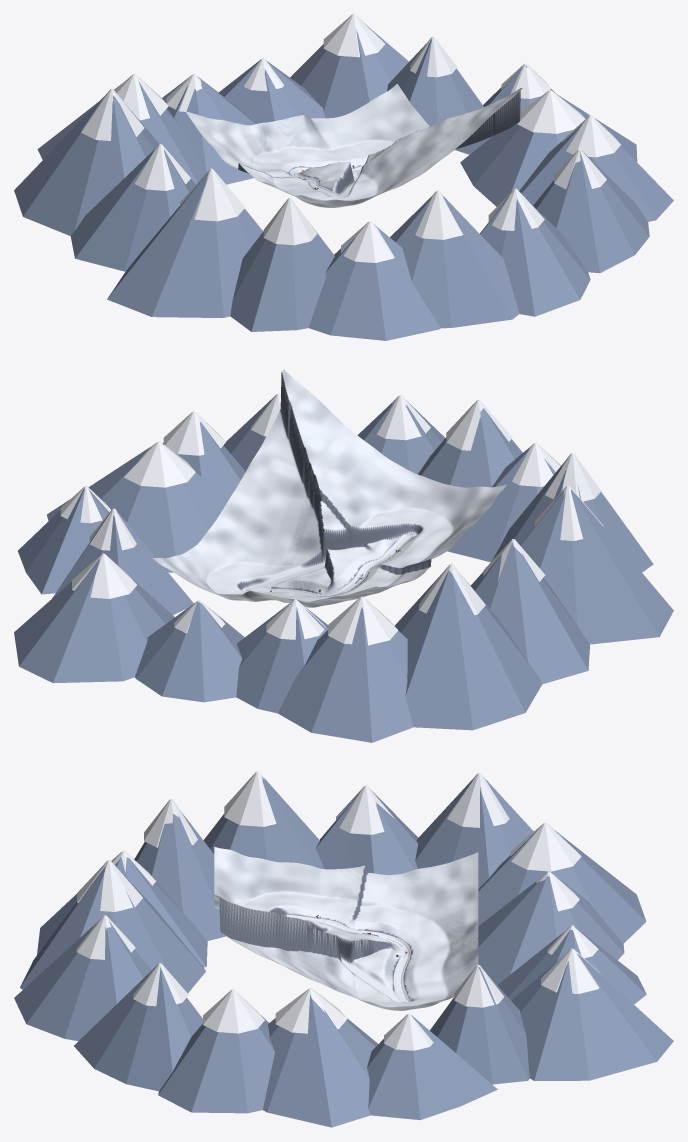
File: vale_pinheiros.glb
3 views of the same model, one above another, from view 1: azimuth 30°, elevation 25°; view 2: azimuth 150°, elevation 25°; view 3: azimuth 270°, elevation 25° (orthographic). The views are drawn at different scales.
Visible parts, largest first — view 1: terrain, mtn7, mtn4, mtn9, mtn5, mtn6, mtn2, mtn8, mtn3, mtn13, mtn0, mtn1 (+21 smaller); view 2: terrain, mtn9, mtn7, mtn13, mtn10, mtn8, mtn12, mtn0, mtn11, mtn15, mtn4, mtn14 (+21 smaller); view 3: terrain, mtn13, mtn0, mtn2, mtn3, mtn1, mtn15, mtn11, mtn4, mtn14, mtn10, mtn6 (+21 smaller).
Part boxes in pixels (x1,y1,x2,y2): terrain: (185, 83, 522, 207); mtn7: (107, 172, 262, 317); mtn4: (390, 196, 519, 328); mtn9: (14, 95, 159, 235); mtn5: (308, 224, 440, 340); mtn6: (230, 220, 334, 331); mtn2: (533, 151, 649, 273); mtn8: (70, 149, 195, 271); mtn3: (480, 197, 590, 316); mtn13: (290, 23, 408, 118); mtn0: (460, 94, 637, 206); mtn1: (519, 124, 673, 221); terrain: (152, 369, 506, 607); mtn9: (395, 571, 542, 730); mtn7: (520, 489, 673, 644); mtn13: (14, 559, 174, 683); mtn10: (278, 607, 413, 742); mtn8: (470, 542, 589, 684); mtn12: (135, 602, 244, 702); mtn0: (47, 447, 228, 572); mtn11: (236, 603, 327, 713); mtn15: (18, 488, 109, 594); mtn4: (418, 408, 522, 487); mtn14: (52, 510, 193, 614); terrain: (214, 846, 478, 1010); mtn13: (511, 954, 673, 1080); mtn0: (263, 995, 378, 1127); mtn2: (74, 964, 202, 1091); mtn3: (14, 921, 151, 1041); mtn1: (158, 1015, 274, 1113); mtn15: (367, 1015, 497, 1120); mtn11: (478, 876, 624, 985); mtn4: (20, 866, 205, 993); mtn14: (430, 967, 529, 1084); mtn10: (478, 828, 646, 943); mtn6: (134, 812, 225, 940).
Size of what is drawn, in the model's own units: 2624 by 626 by 2564.
